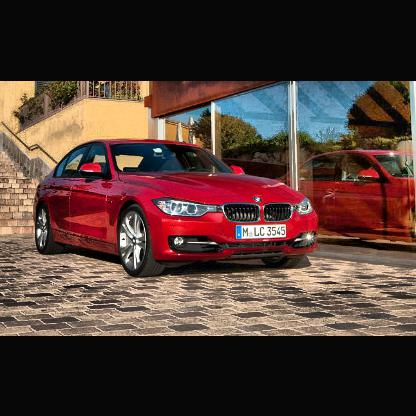BMW 3 Series Sedan 2012: (36, 138, 319, 278)
